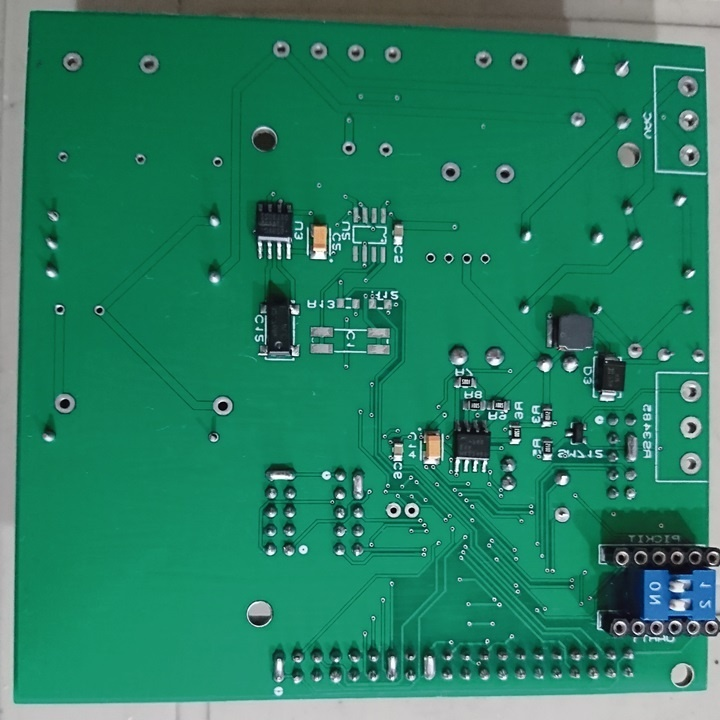F: (677, 376, 705, 406), (437, 158, 464, 186), (676, 72, 702, 101), (675, 414, 703, 440), (677, 140, 701, 170), (676, 108, 704, 133), (679, 449, 703, 477), (52, 389, 77, 415), (210, 392, 236, 417), (136, 52, 161, 77), (493, 160, 517, 186), (61, 49, 84, 75), (307, 38, 330, 63), (472, 47, 496, 70), (613, 58, 635, 82), (551, 504, 573, 528), (509, 47, 530, 72), (624, 339, 647, 360), (383, 43, 404, 65), (270, 38, 292, 59), (383, 499, 403, 522), (655, 345, 676, 366), (348, 41, 368, 63), (403, 500, 423, 522), (568, 110, 590, 129), (692, 346, 707, 368), (204, 428, 221, 447), (377, 143, 396, 159), (44, 206, 61, 223), (133, 151, 149, 169), (476, 252, 492, 269), (91, 300, 106, 318), (52, 301, 67, 318), (341, 140, 356, 157), (210, 152, 224, 169), (441, 252, 455, 266), (55, 150, 70, 163), (461, 251, 473, 267), (424, 250, 436, 265)
P: (419, 648, 439, 685), (622, 430, 643, 465), (269, 646, 287, 686), (262, 465, 299, 484), (347, 469, 369, 500), (384, 646, 400, 685)
